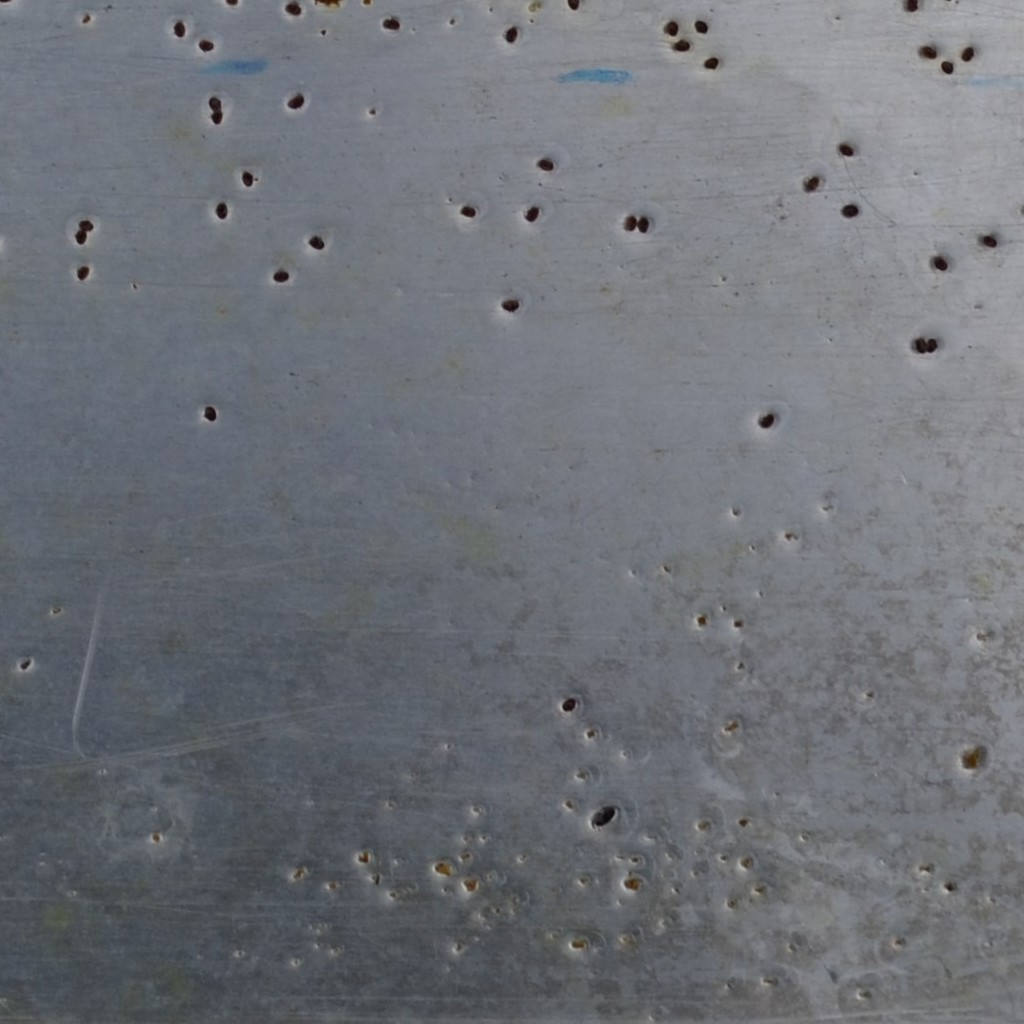varroa: (591, 804, 617, 828), (499, 296, 522, 317), (523, 200, 541, 226), (379, 14, 401, 35), (213, 197, 230, 223), (283, 92, 306, 111), (457, 204, 480, 223), (306, 230, 325, 252), (757, 409, 776, 430), (931, 252, 950, 273), (502, 23, 519, 46), (621, 213, 637, 237), (171, 17, 187, 40), (702, 53, 721, 72), (282, 1, 304, 17), (670, 38, 692, 54), (804, 174, 820, 196), (240, 166, 255, 189), (207, 93, 225, 112), (661, 17, 679, 36), (835, 141, 854, 159), (980, 232, 999, 250), (202, 402, 219, 422), (535, 157, 556, 173), (912, 334, 927, 356), (197, 36, 215, 54), (693, 18, 711, 36), (271, 268, 291, 284), (561, 695, 577, 715), (77, 216, 94, 234), (919, 42, 937, 59), (76, 262, 90, 282), (209, 109, 225, 126), (637, 214, 650, 234), (925, 334, 937, 355), (959, 46, 974, 62), (563, 0, 582, 12), (902, 0, 921, 12), (74, 228, 87, 245), (940, 60, 955, 74), (220, 0, 241, 8)
